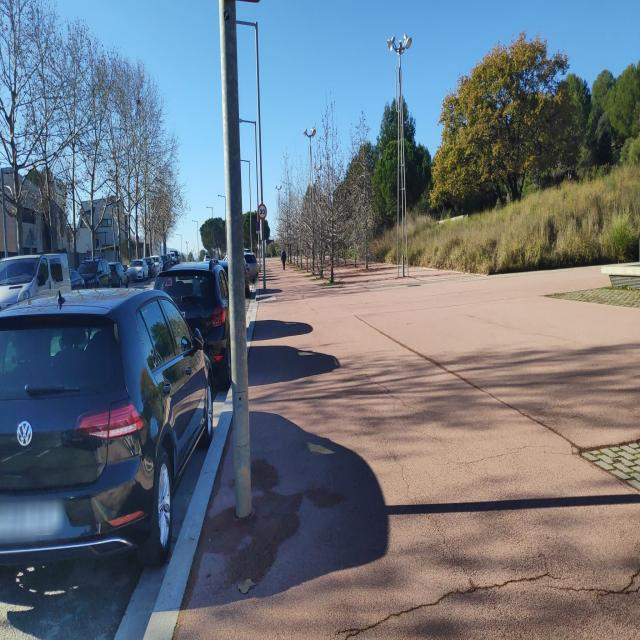forb_stopping: (256, 221, 260, 231)
